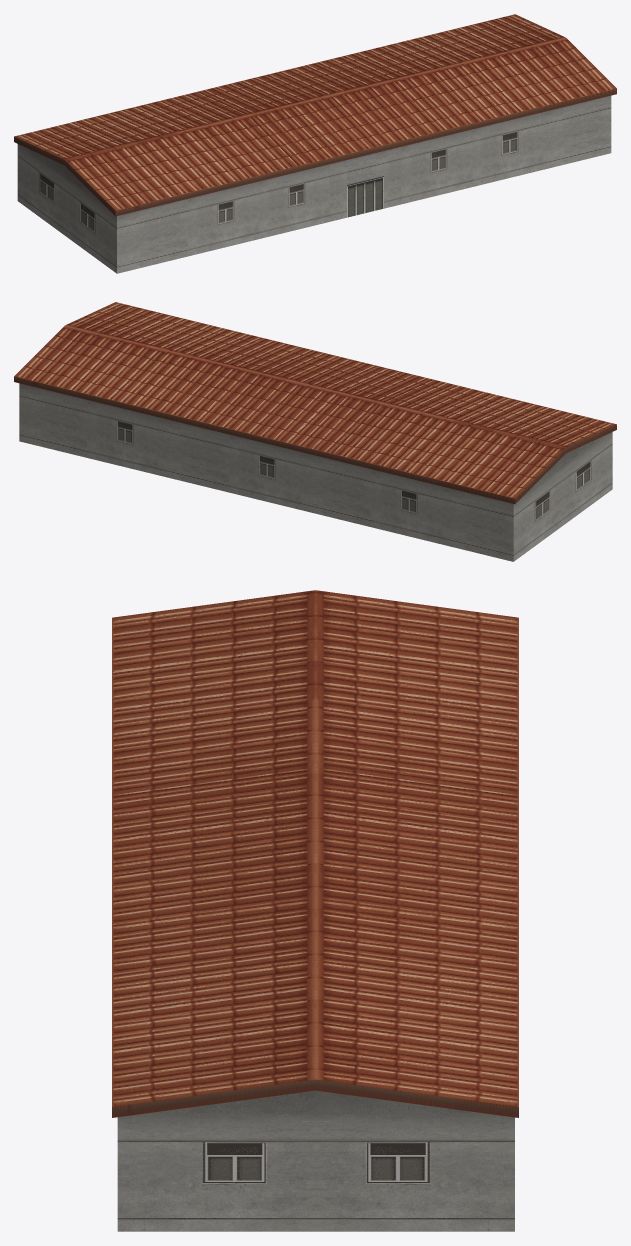
Rendered from workshop_01.obj.
The picture shows the model from 3 angles, top to bottom: view 1: azimuth 30°, elevation 25°; view 2: azimuth 150°, elevation 25°; view 3: azimuth 270°, elevation 25°; orthographic projection. The views are drawn at different scales.
Parts seen in each view (by area): view 1: Object182; view 2: Object182; view 3: Object182.
Boxes of the visible parts, left/top/right/bottom form: Object182: left=14, top=14, right=616, bottom=273; Object182: left=14, top=302, right=616, bottom=561; Object182: left=112, top=590, right=518, bottom=1231.
Size of the model in its own units: 110 by 16.44 by 38.69.
